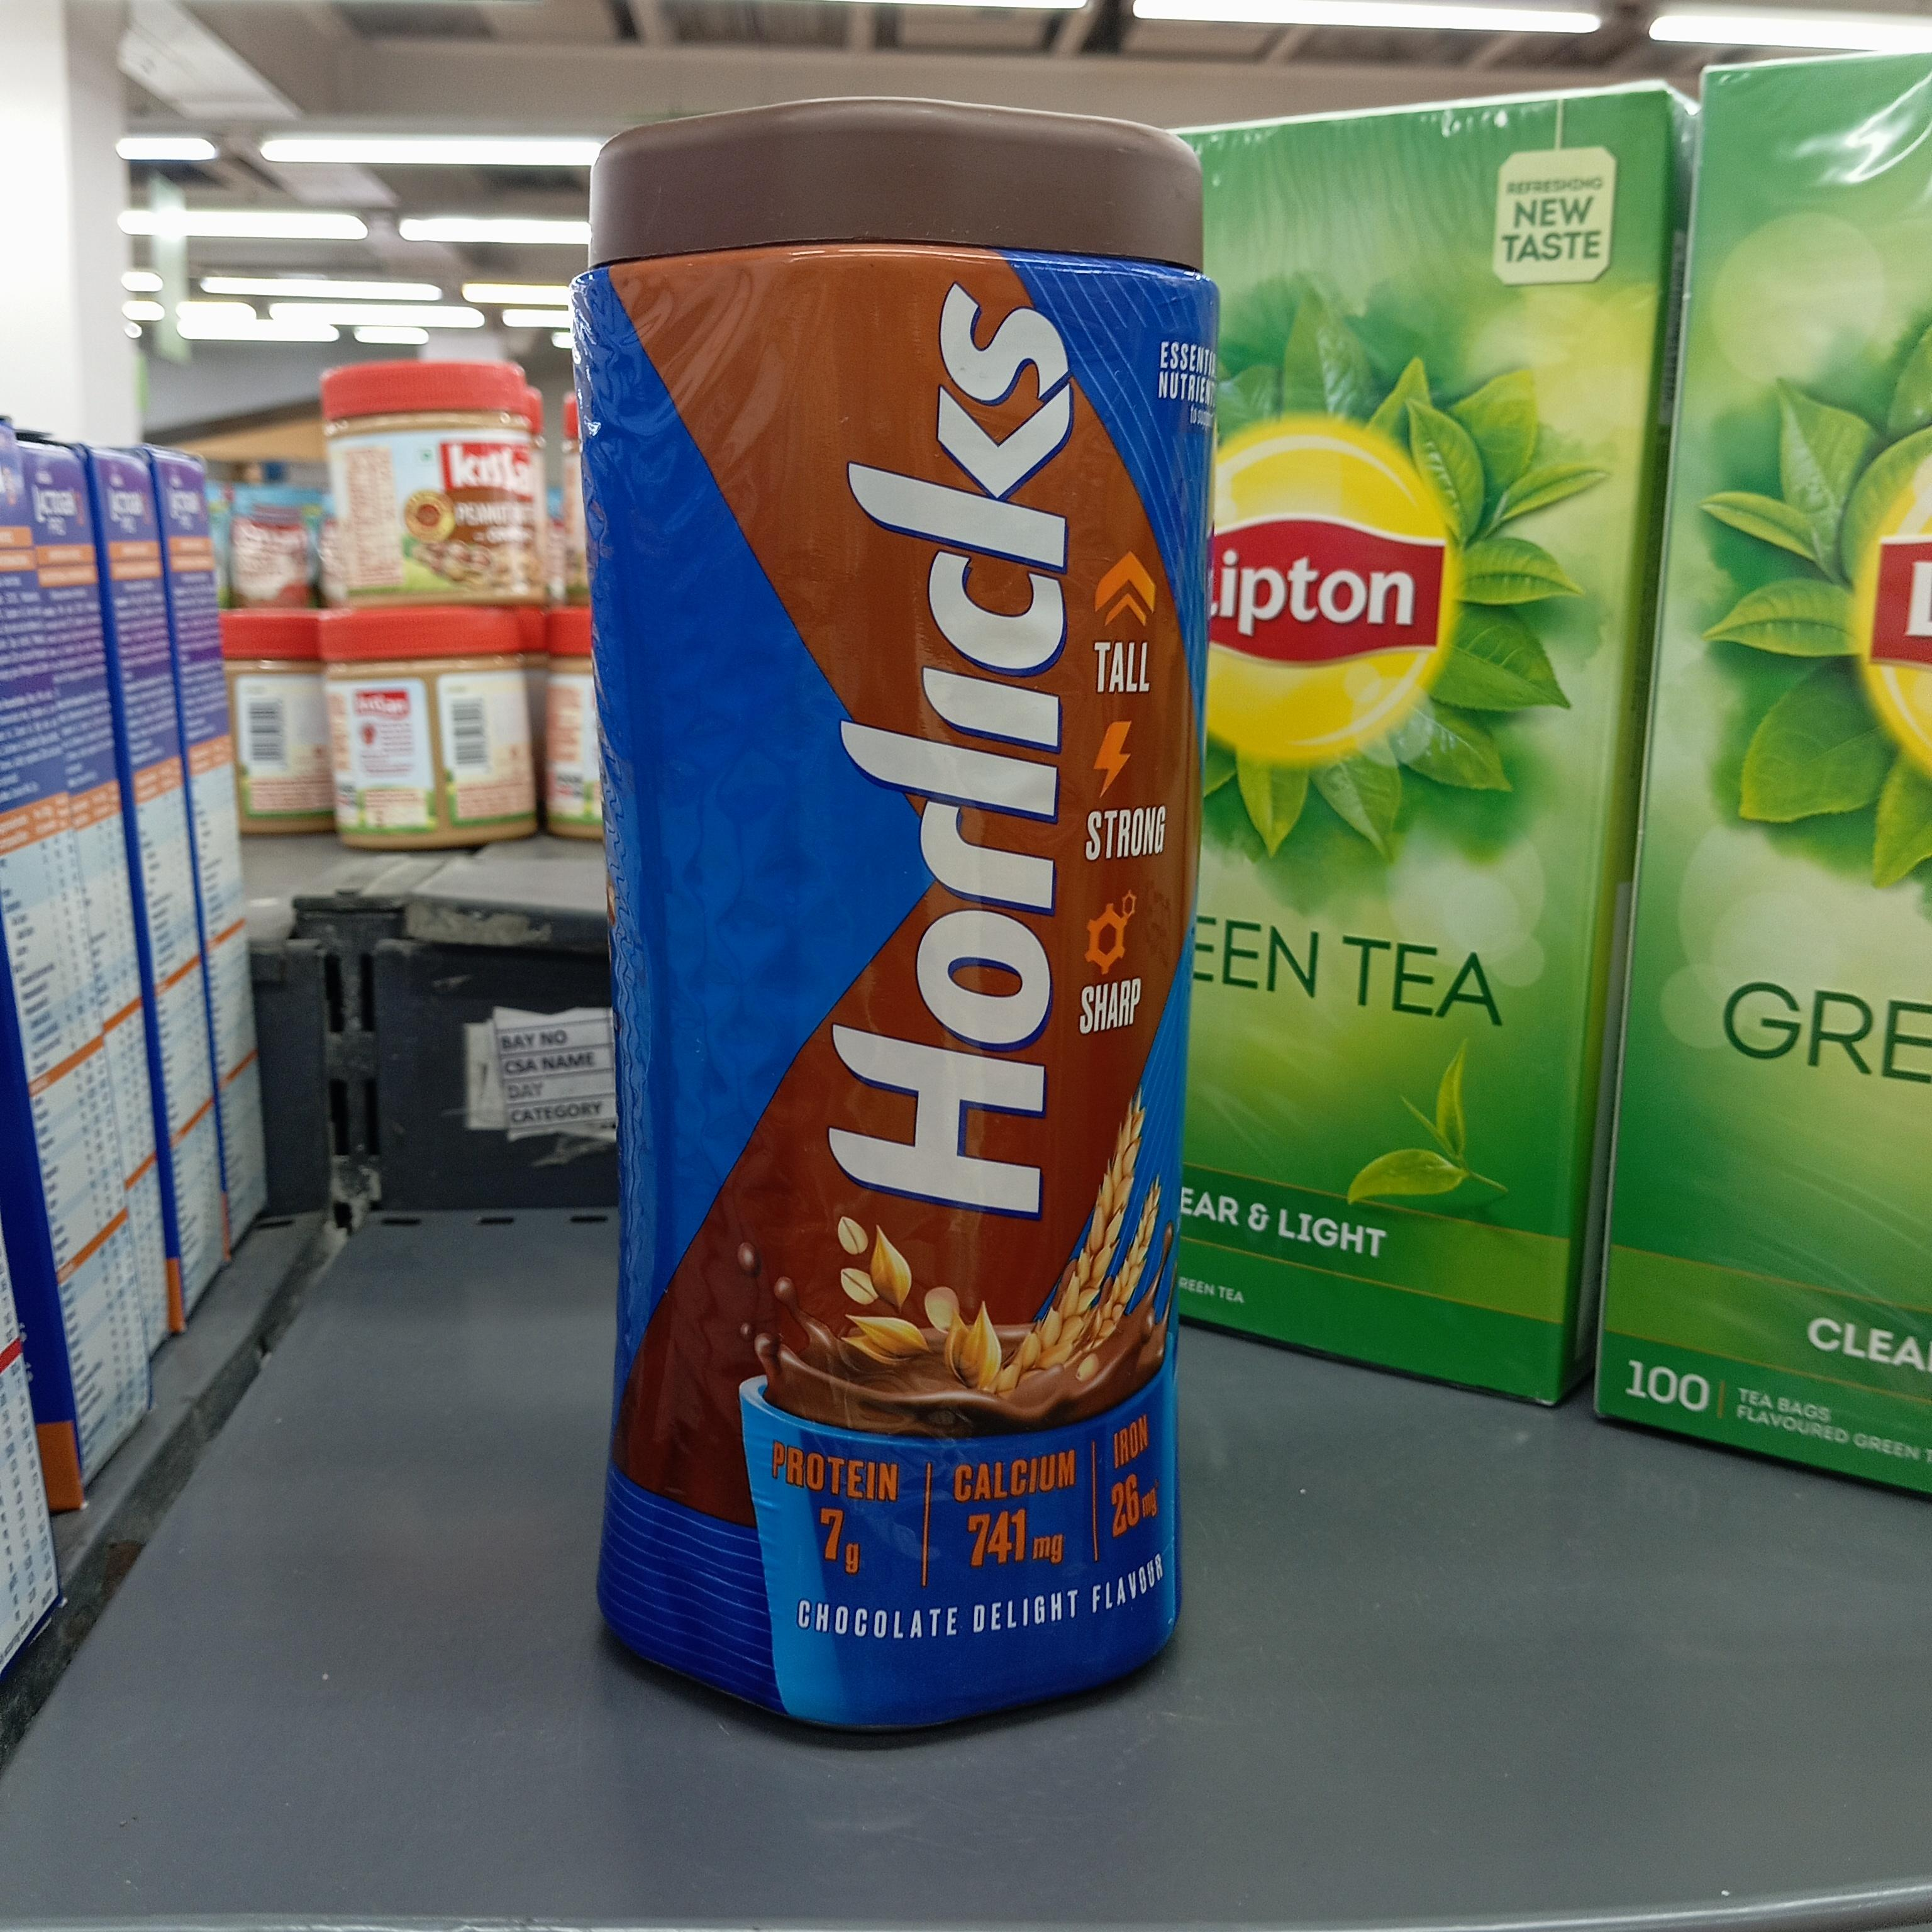HORLICK_CHOCOLATE_1_KG_JAR: (594, 101, 1196, 1734)
